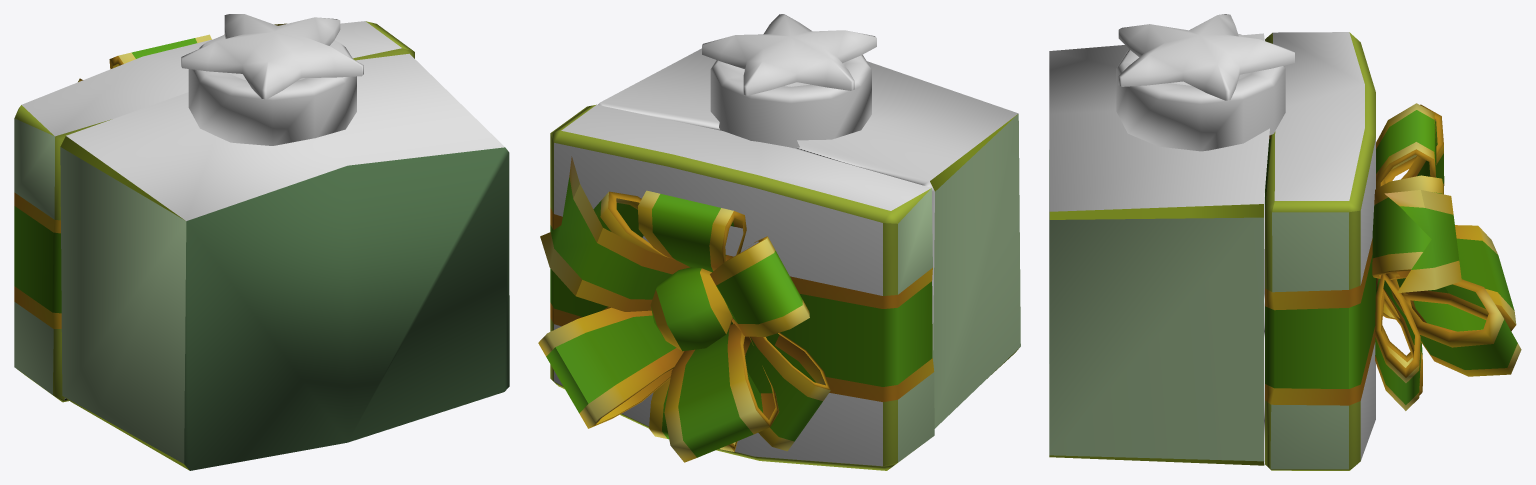
File: trunkProgressionAA.fbx
The picture shows the model from 3 angles, left to right: view 1: azimuth 30°, elevation 25°; view 2: azimuth 150°, elevation 25°; view 3: azimuth 270°, elevation 25°; orthographic projection. The views are drawn at different scales.
Visible parts, largest first — view 1: trunkProgressionAA, trunkProgressionLidAA; view 2: trunkProgressionLidAA, trunkProgressionAA; view 3: trunkProgressionAA, trunkProgressionLidAA.
Boxes of the visible parts, x1,y1,x2,y2 form: trunkProgressionAA: [60, 14, 509, 470]; trunkProgressionLidAA: [14, 21, 414, 402]; trunkProgressionLidAA: [538, 104, 934, 470]; trunkProgressionAA: [598, 14, 1020, 428]; trunkProgressionAA: [1049, 14, 1294, 465]; trunkProgressionLidAA: [1265, 32, 1521, 470].
Size of the model in its own units: 59.16 by 57.73 by 66.34.
